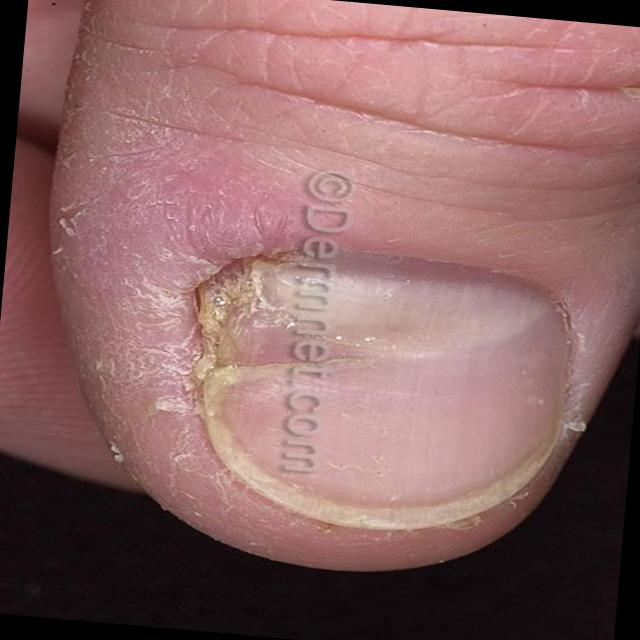Nail: (179, 253, 568, 522)
